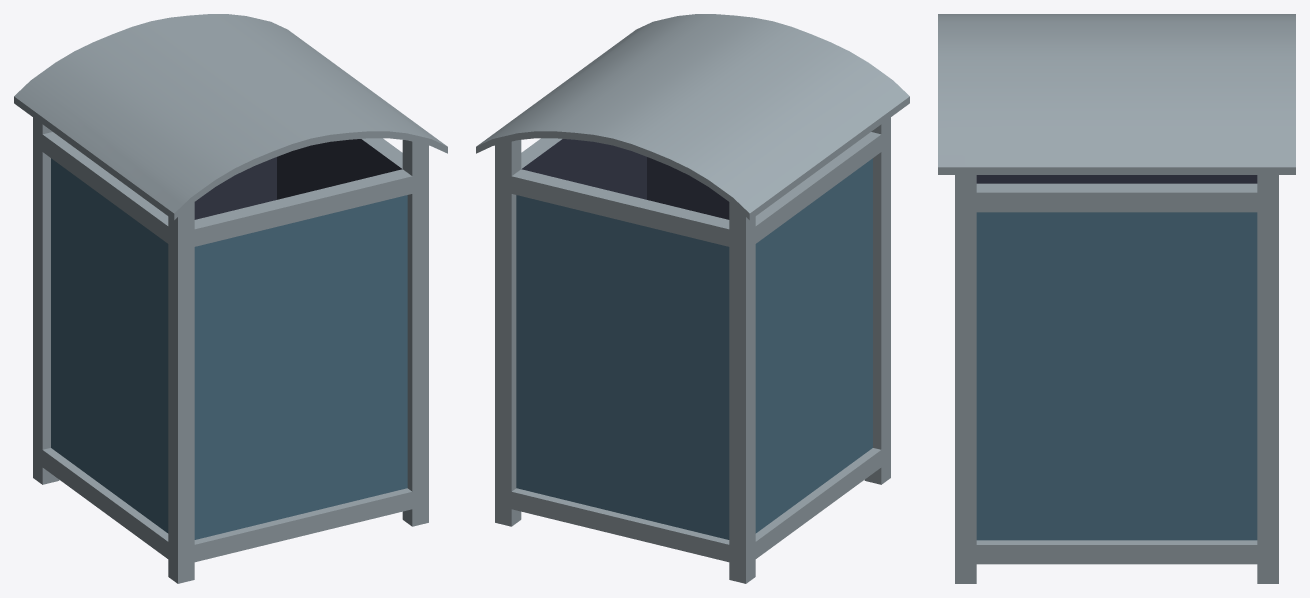
The model's file is BinSmall.fbx.
3 renders of one model, left to right at view 1: azimuth 30°, elevation 25°; view 2: azimuth 150°, elevation 25°; view 3: azimuth 270°, elevation 25°, orthographic. The views are drawn at different scales.
Visible parts, largest first — view 1: BinSmall; view 2: BinSmall; view 3: BinSmall.
Boxes of the visible parts, x1,y1,x2,y2 form: BinSmall: (14,14,447,583); BinSmall: (476,14,909,583); BinSmall: (938,14,1295,583).
Size of the model in its own units: 81.75 by 120 by 82.83.
